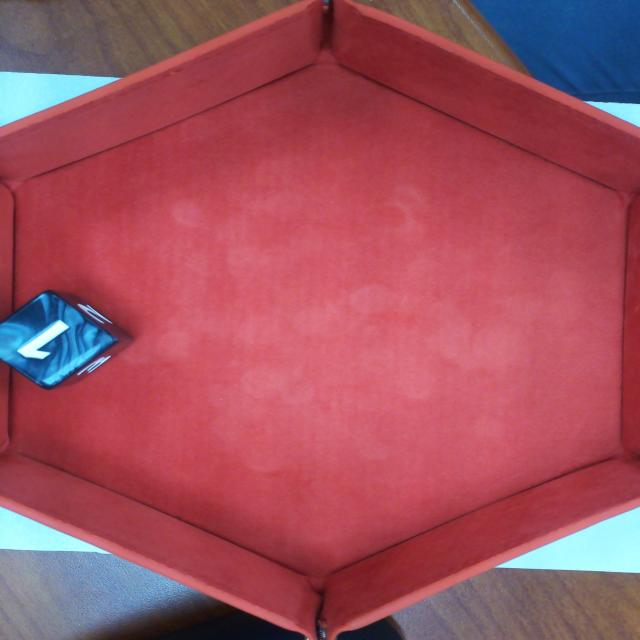dice: (3, 293, 119, 386)
